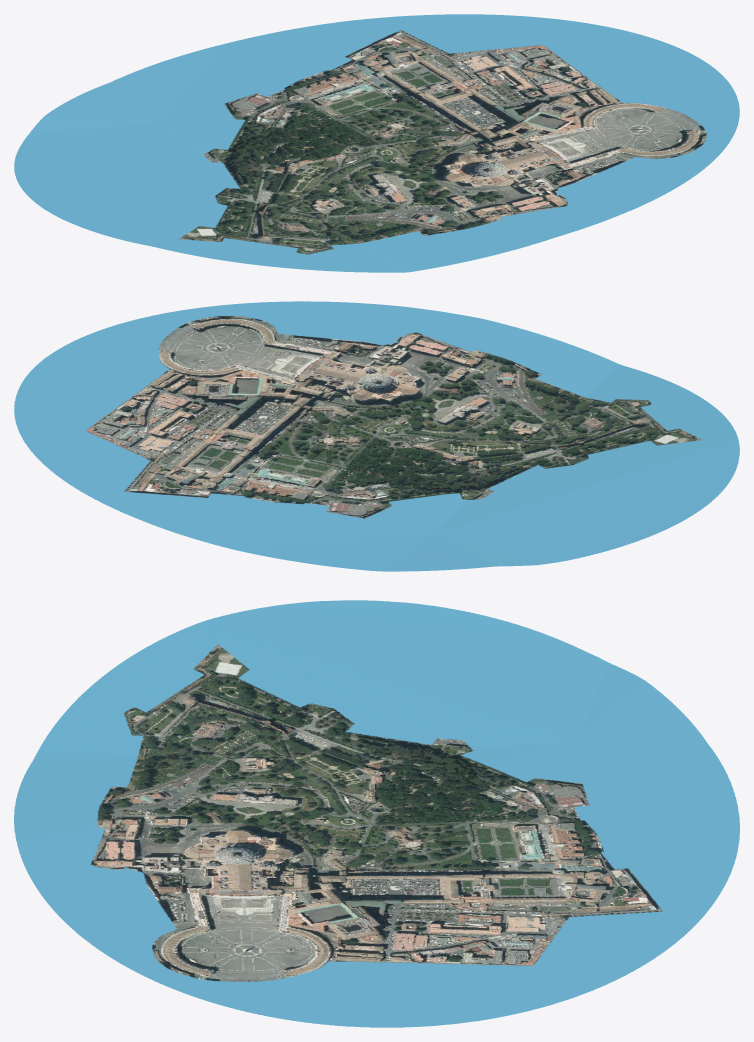
Rendered from VAT-previa-terrain.glb.
3 renders of one model, top to bottom at view 1: azimuth 30°, elevation 25°; view 2: azimuth 150°, elevation 25°; view 3: azimuth 270°, elevation 25°, orthographic. The views are drawn at different scales.
Visible parts, largest first — view 1: Vaticano; view 2: Vaticano; view 3: Vaticano.
Boxes of the visible parts, left/top/right/bottom form: Vaticano: left=14, top=14, right=739, bottom=272; Vaticano: left=14, top=301, right=739, bottom=571; Vaticano: left=14, top=600, right=739, bottom=1027.
Size of the model in its own units: 2.23 by 0.0759 by 1.69.
1 material, 1 textured.
